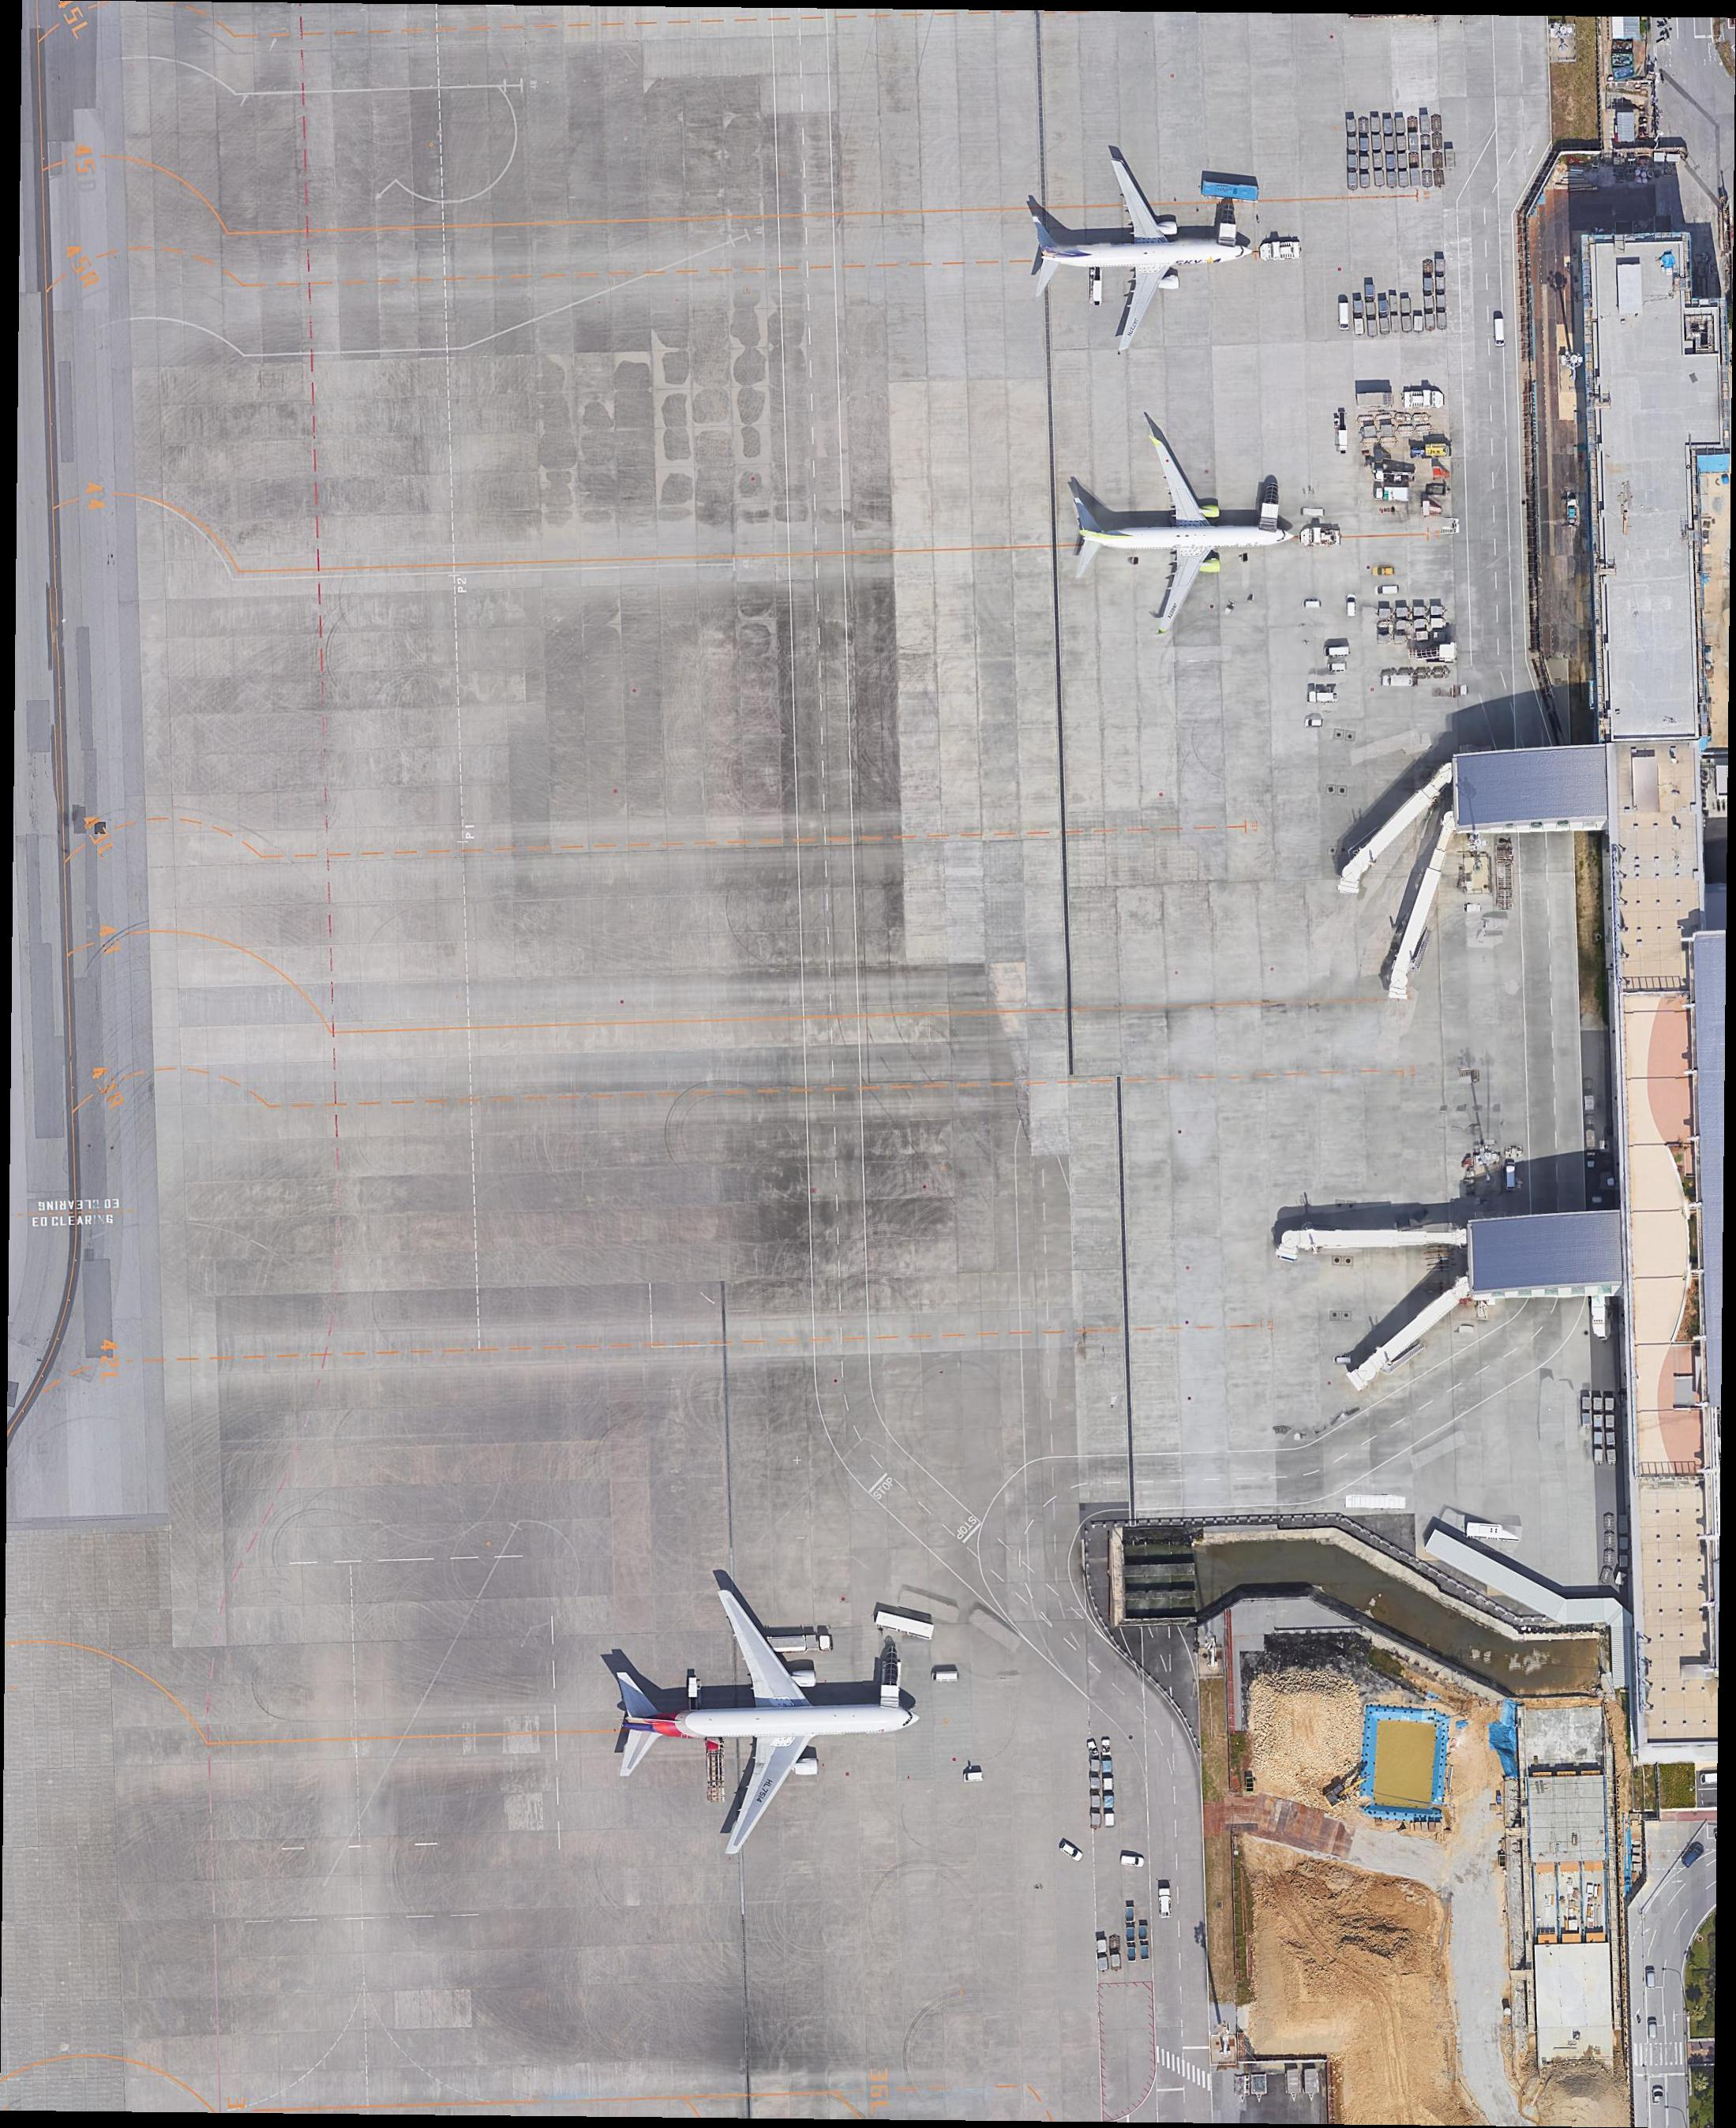plane: (587, 1554, 933, 1863), (1002, 140, 1264, 355), (1052, 410, 1294, 642)
